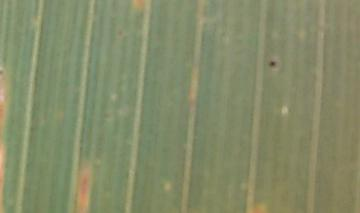tarspot: (268, 60, 276, 67), (1, 69, 4, 75)
